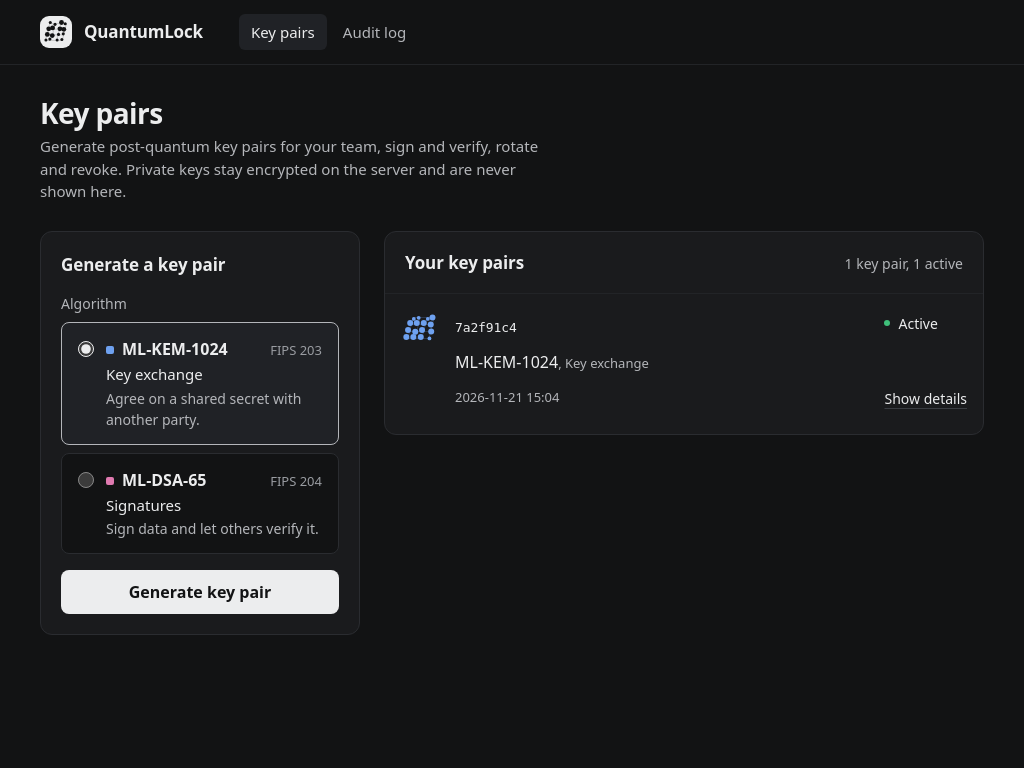
Scenario: rotate and revoke › revokes only after a second, explicit confirmation, and Cancel changes nothing
The image size is (1024, 768).
Expected: the table is shown, left=385, top=293, right=983, bottom=434
What coordinates should you click on to do the following:
click the button with aria-label "Show details of 7a2f91c4"
I would click on:
 (926, 398)
Its box is left=884, top=376, right=967, bottom=420.
(page scrolled)
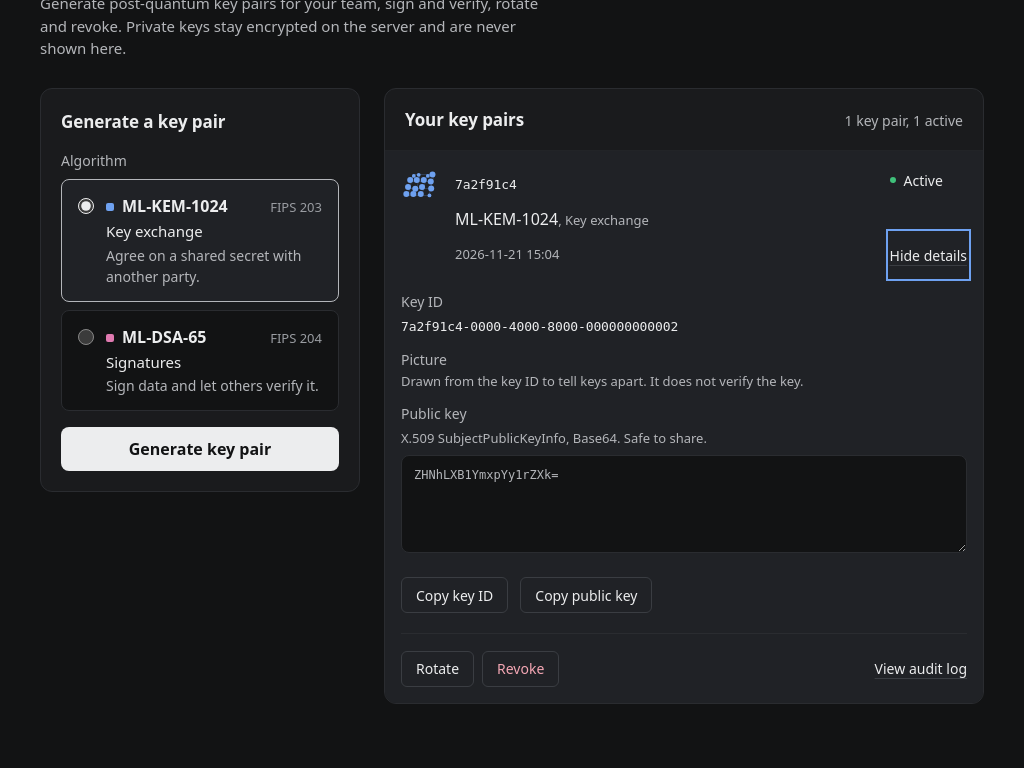
What coordinates should you click on to do the following:
click the button "Revoke"
I would click on:
 (521, 669)
Its box is left=482, top=651, right=559, bottom=687.
(page scrolled)
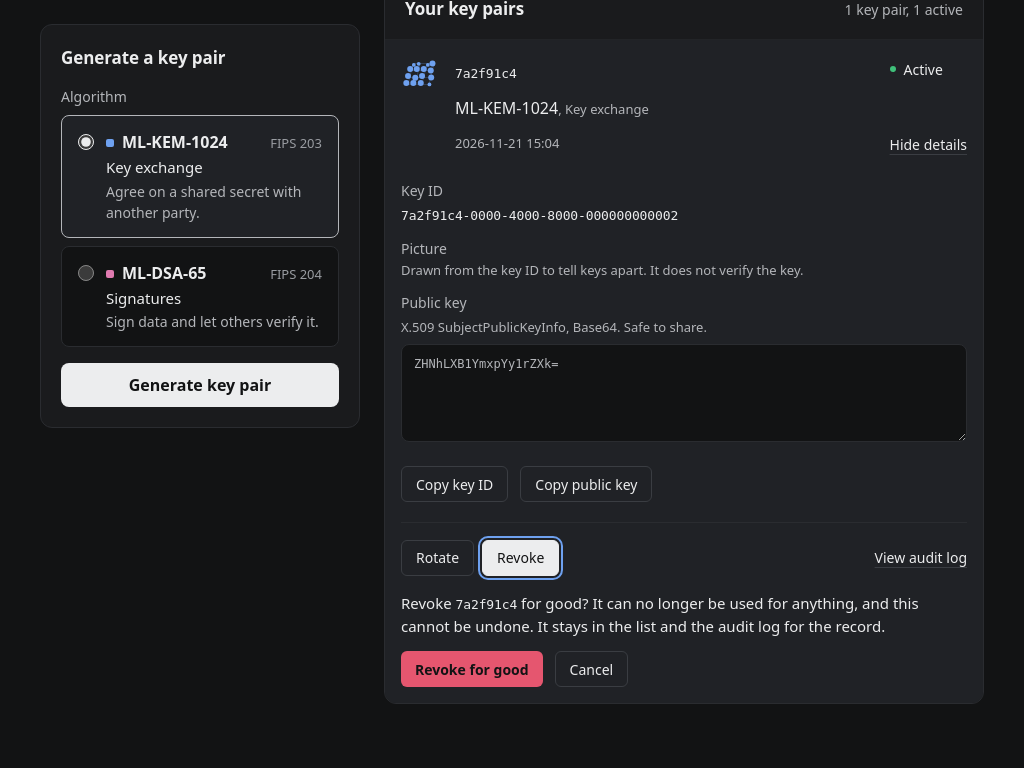
Now the element named "Revoke this key pair" shows "cannot be undone", box left=401, top=593, right=919, bottom=636
What coordinates should you click on to do the following:
click the button "Cancel"
I would click on:
 (591, 669)
Its box is left=555, top=651, right=628, bottom=687.
(page scrolled)
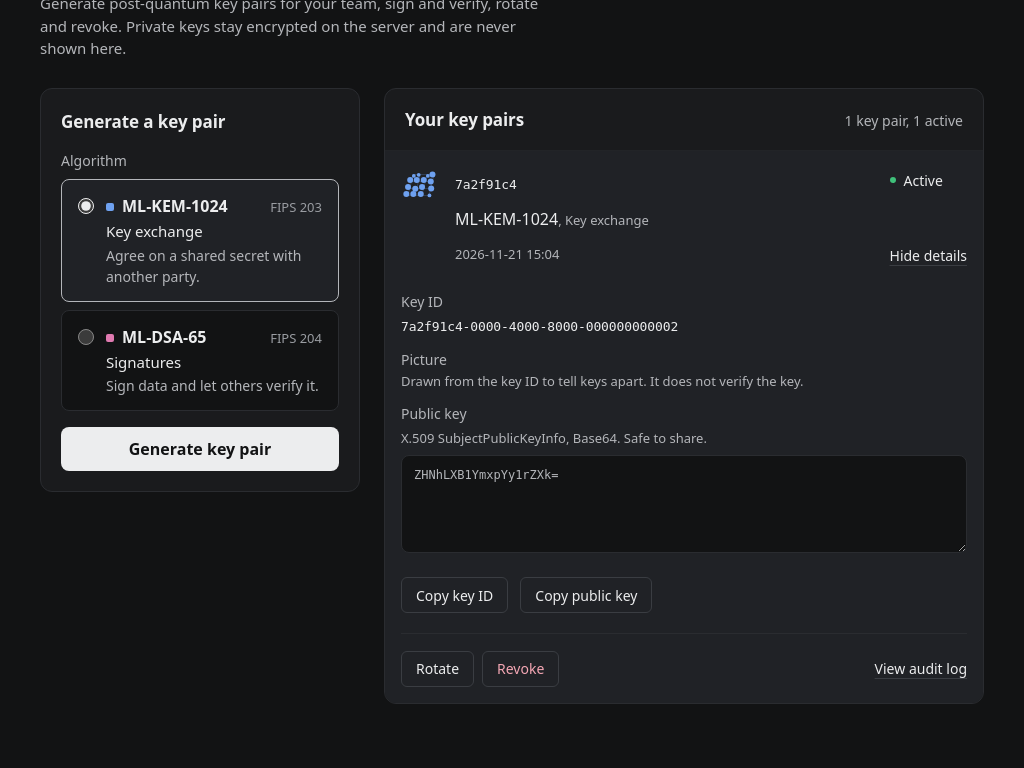
What coordinates should you click on to do the following:
click the button "Revoke"
I would click on:
 (521, 669)
Its box is left=482, top=651, right=559, bottom=687.
(page scrolled)
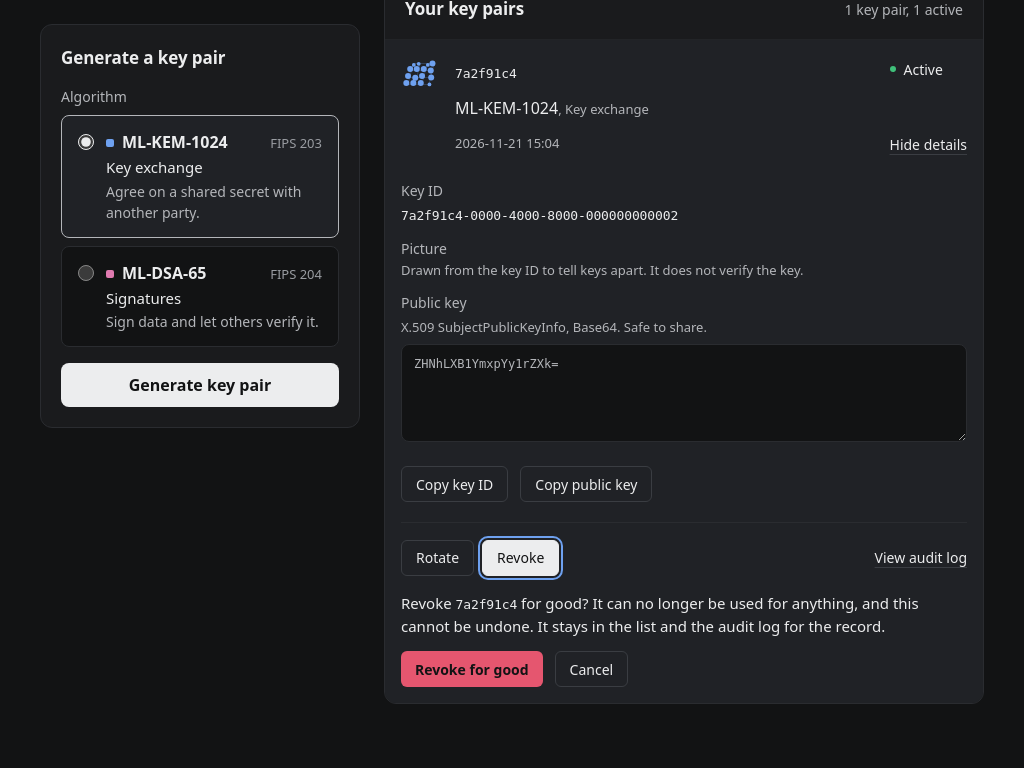
What coordinates should you click on to do the following:
click the button "Revoke for good"
I would click on:
 (472, 669)
Its box is left=401, top=651, right=543, bottom=687.
(page scrolled)
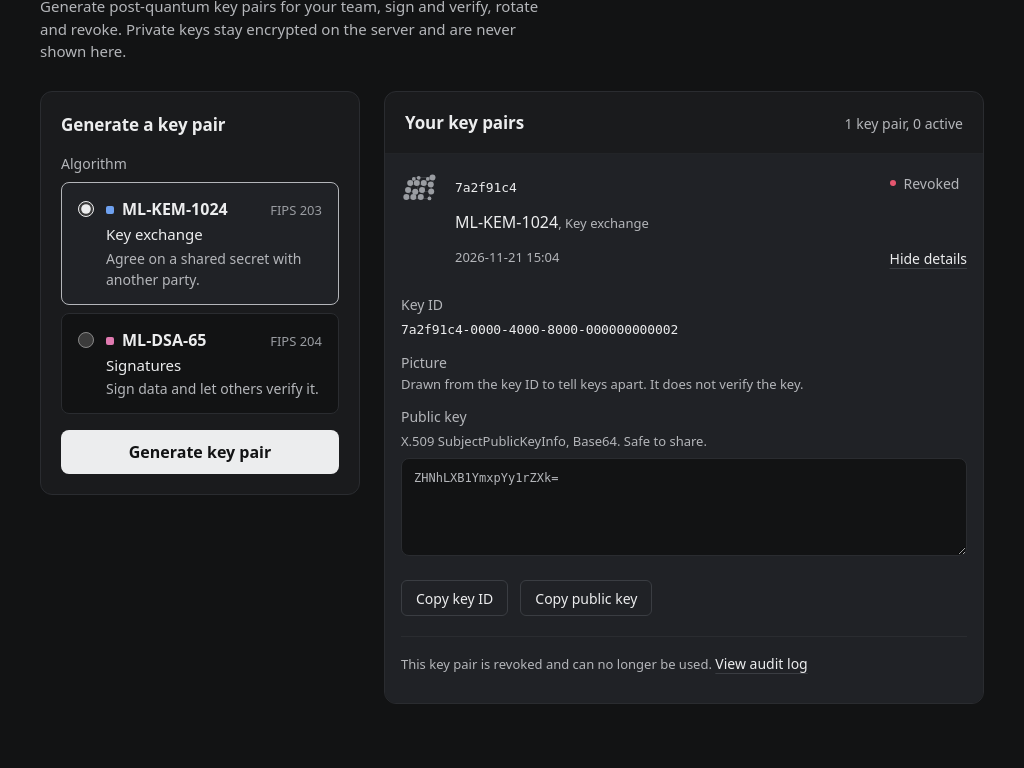
Now the text "Revoked" is shown, box left=890, top=173, right=959, bottom=194
Now the text "revoked and can no longer be used" is shown, box left=401, top=655, right=712, bottom=673
